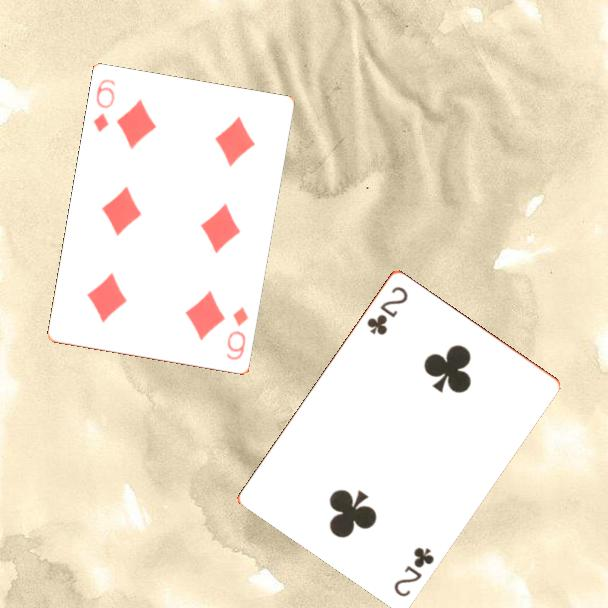c02: (363, 282, 411, 338), (390, 543, 437, 599)
d06: (223, 304, 252, 363), (90, 76, 118, 135)
